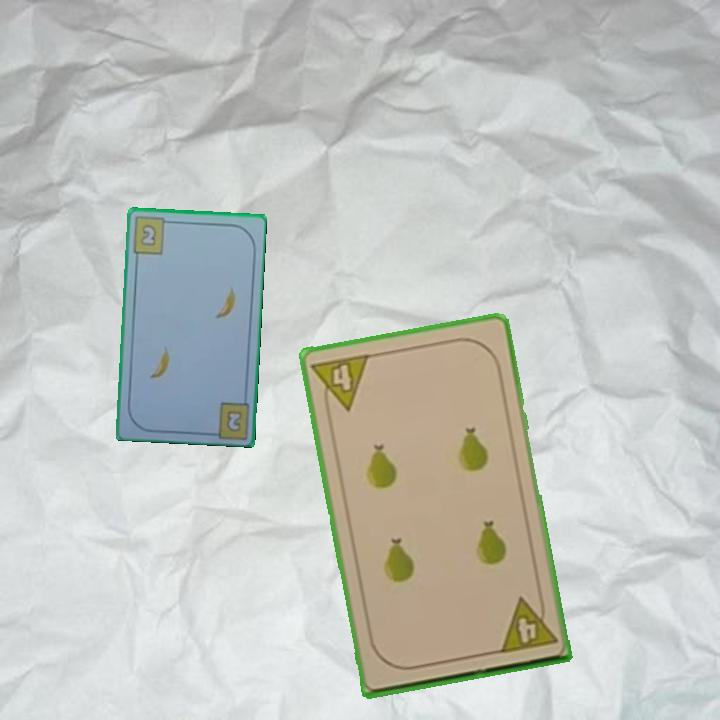2b: (129, 214, 175, 257), (223, 406, 245, 435)
4p: (308, 350, 372, 417), (495, 591, 560, 656)
